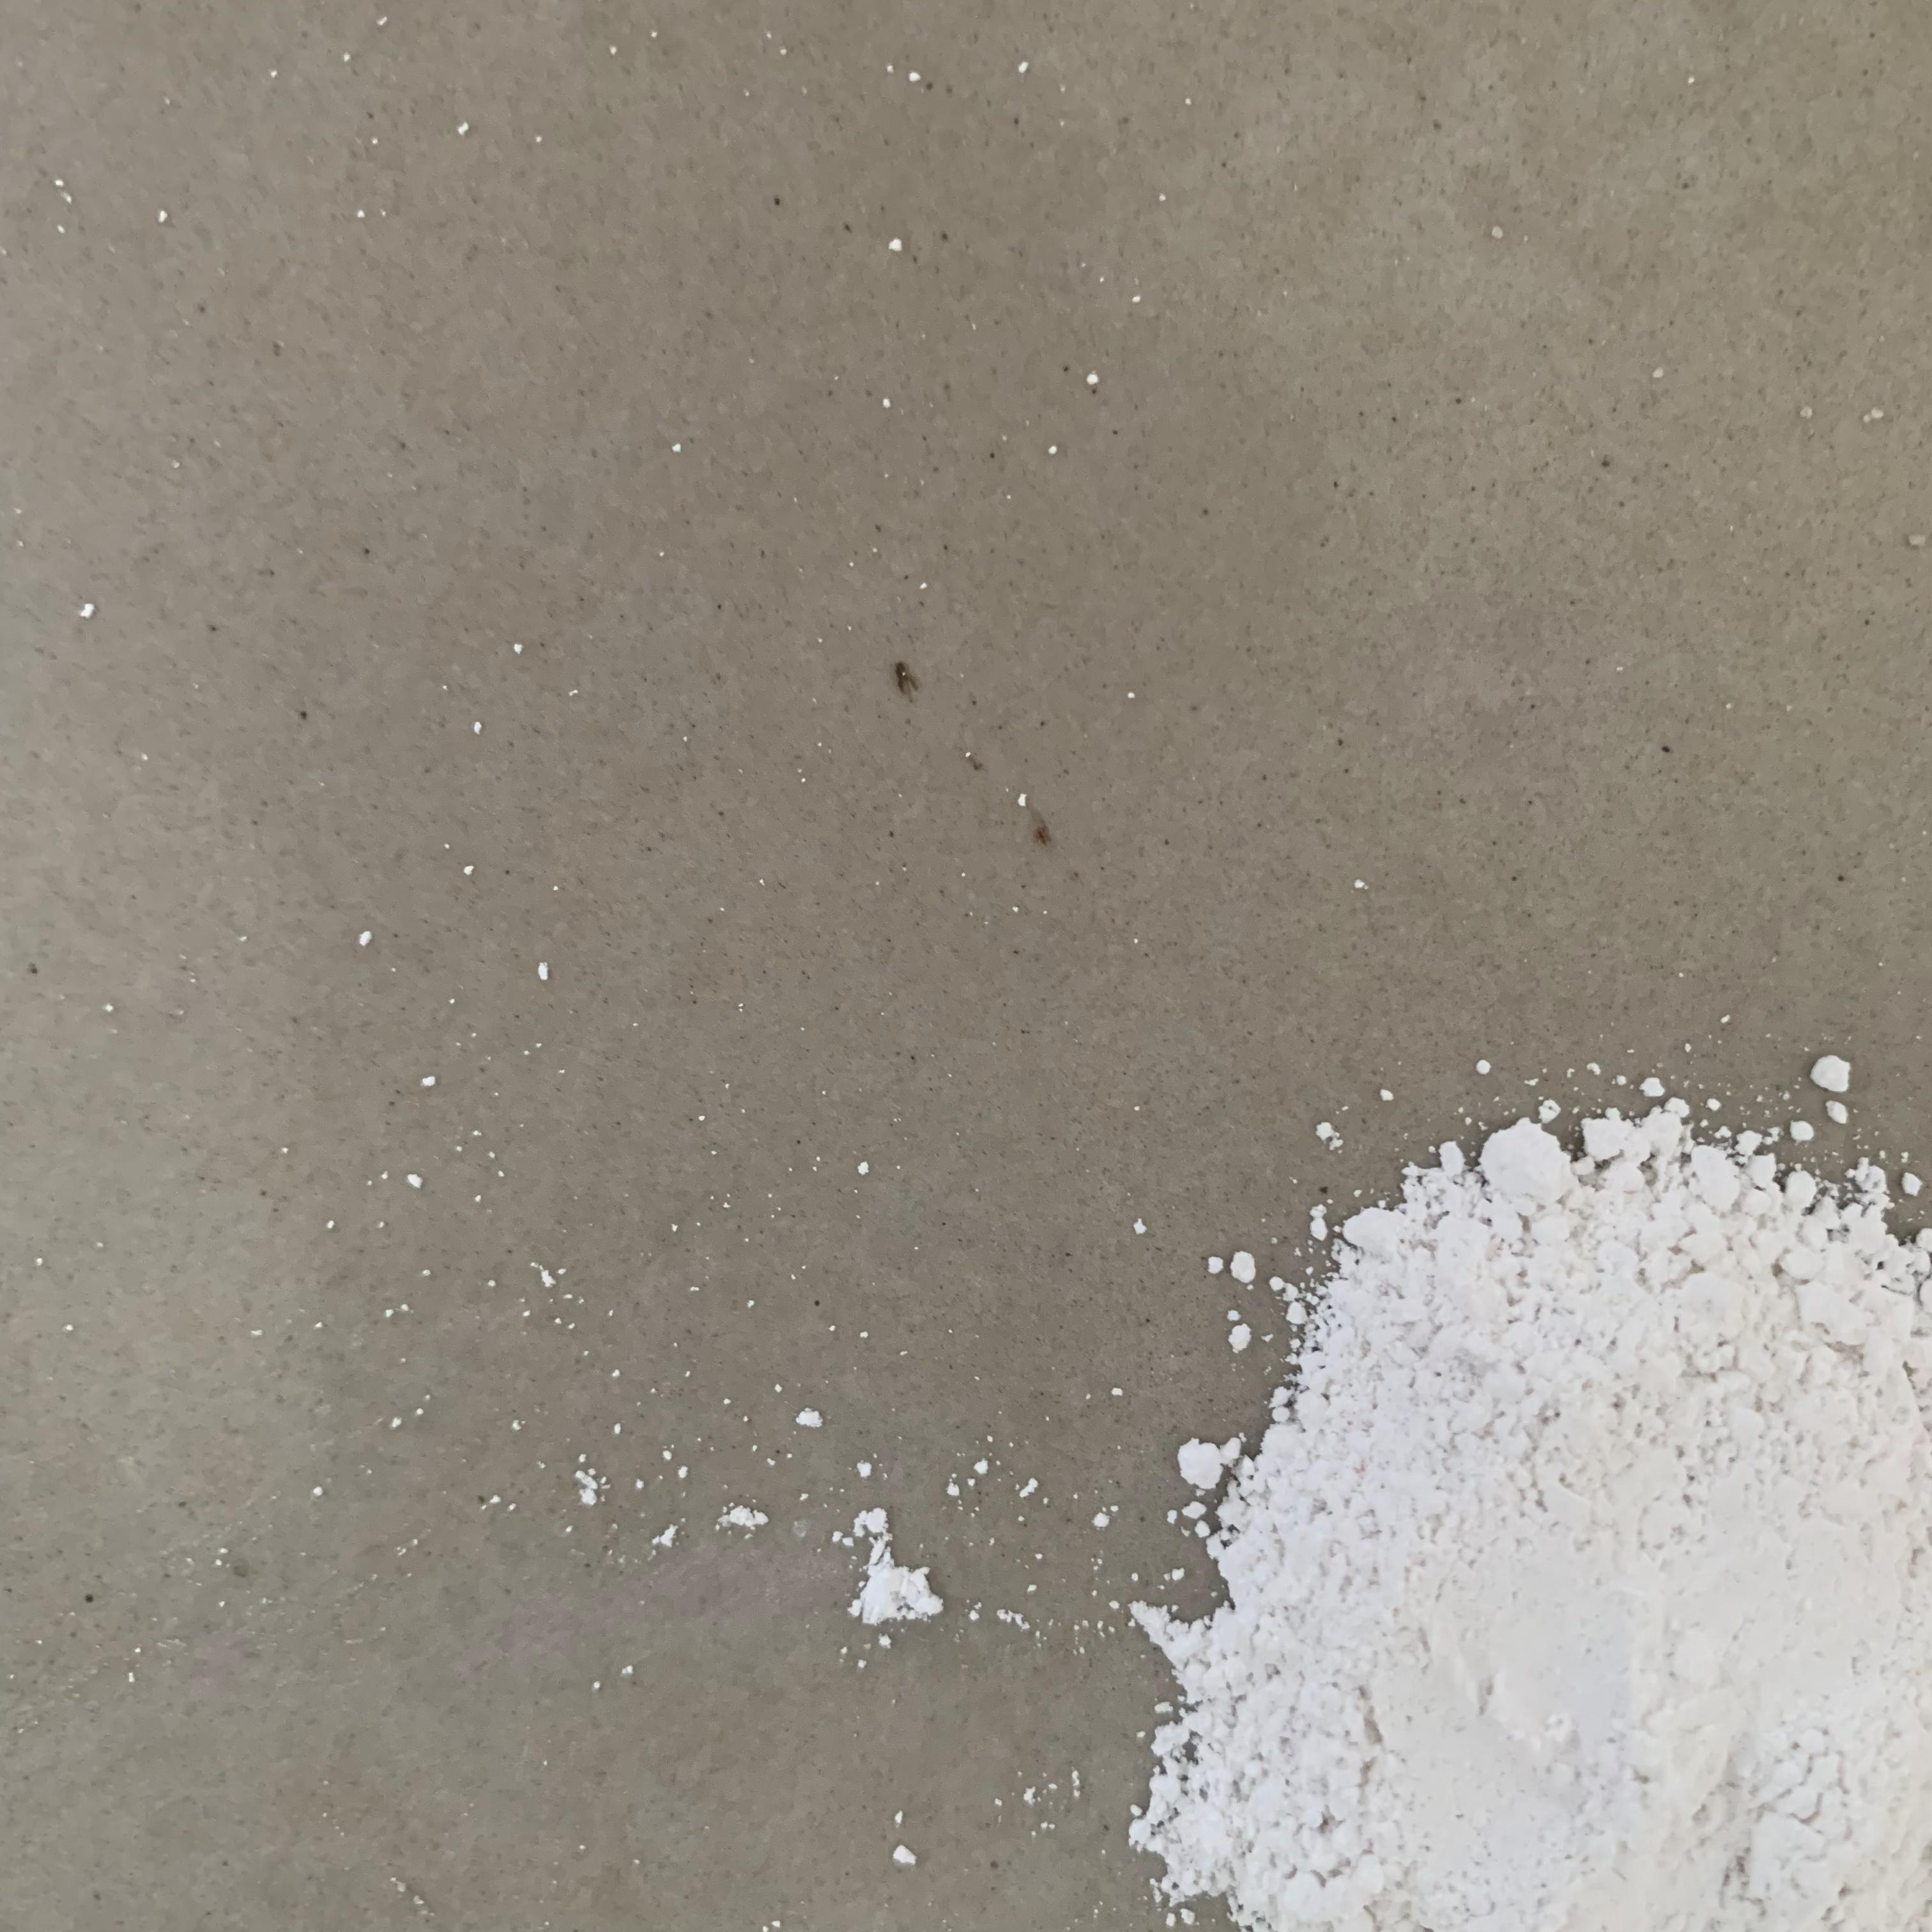ash pile: (1125, 1056, 1932, 1932), (830, 1509, 945, 1624)
